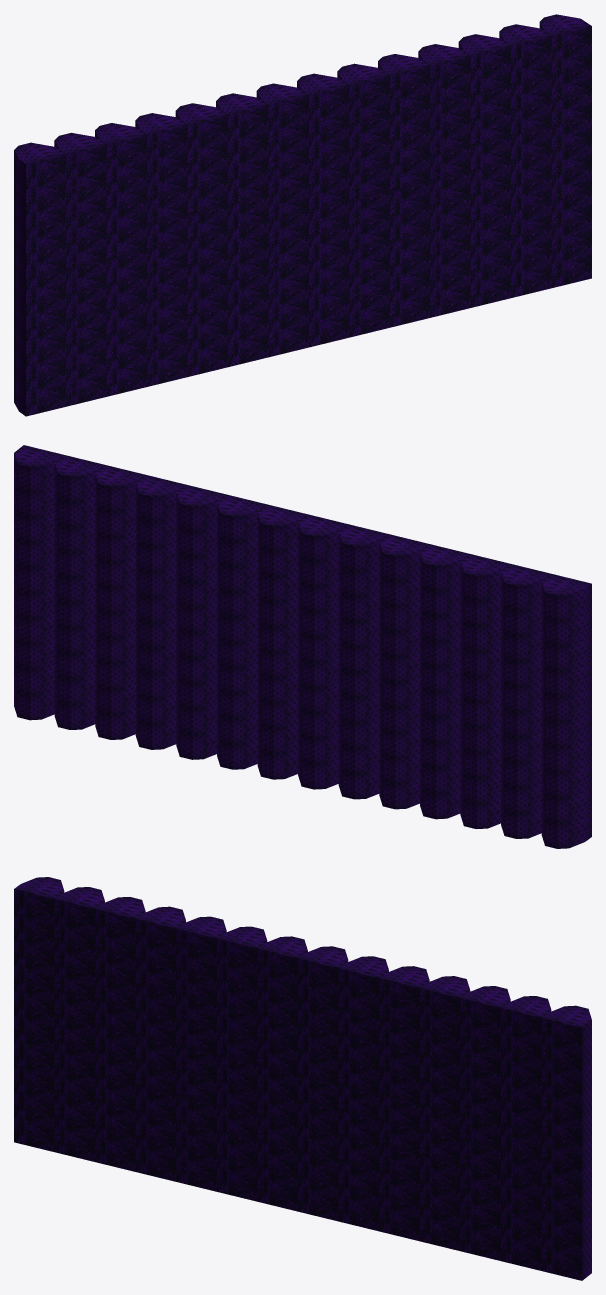
File: ParedeArcade.glb
The picture shows the model from 3 angles, top to bottom: view 1: azimuth 30°, elevation 25°; view 2: azimuth 150°, elevation 25°; view 3: azimuth 330°, elevation 25°; orthographic projection.
Visible parts, largest first — view 1: BlocoSofá.008; view 2: BlocoSofá.008; view 3: BlocoSofá.008.
Part boxes in pixels (x1=…): BlocoSofá.008: x1=14, y1=14, x2=591, y2=416; BlocoSofá.008: x1=14, y1=445, x2=591, y2=848; BlocoSofá.008: x1=14, y1=877, x2=591, y2=1280.
Bounding box in the file's own units: 46.95 × 20 × 3.
1 material, 1 textured.
